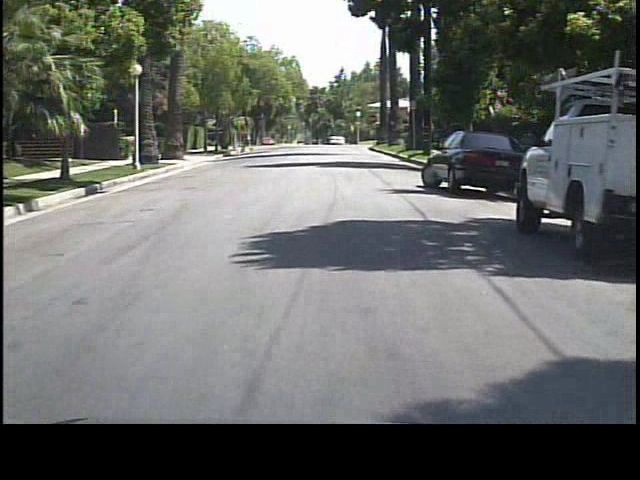person: (242, 129, 255, 157)
